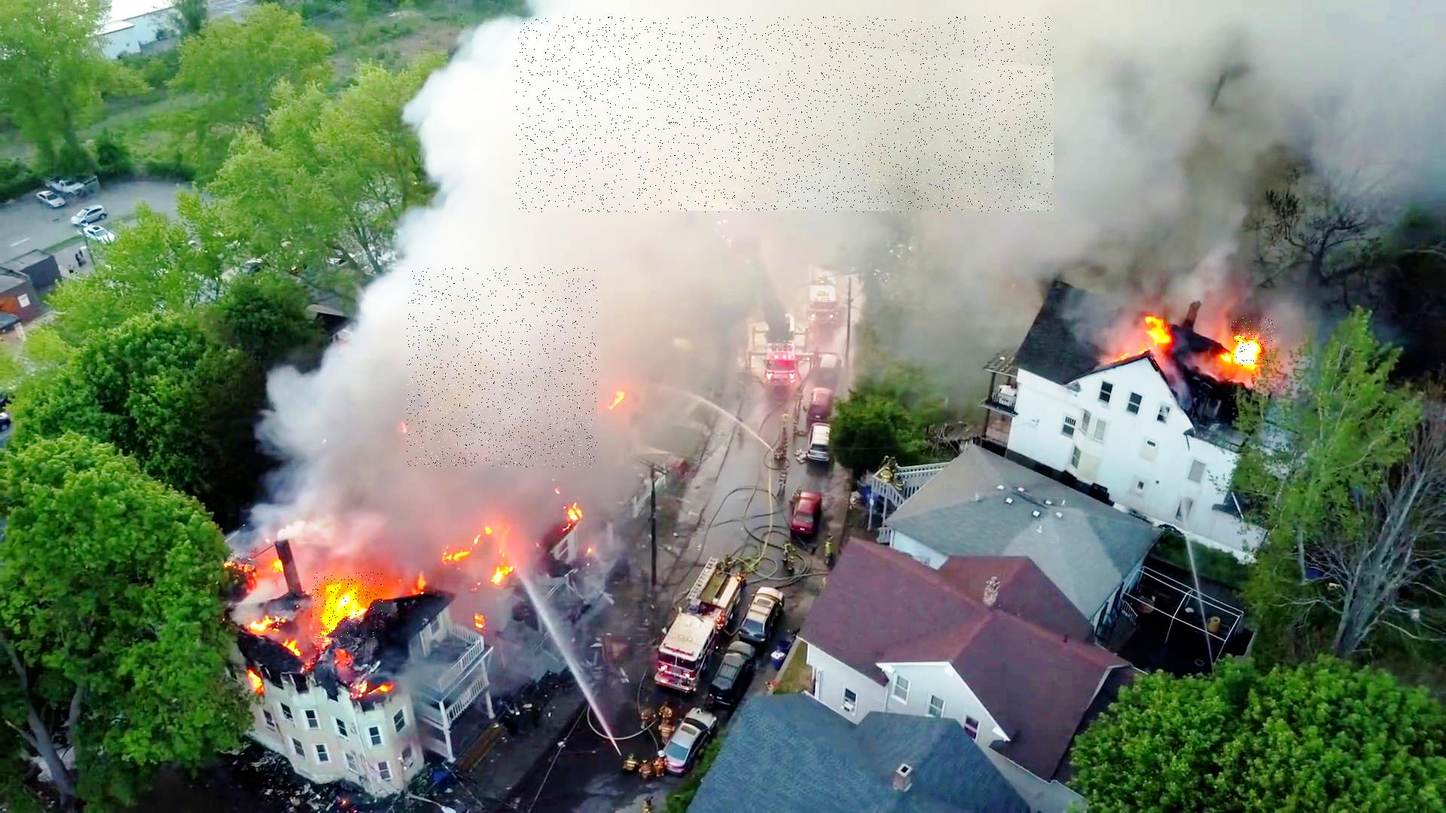fire: (313, 573, 383, 640), (1231, 318, 1275, 366)
smoke: (516, 17, 1054, 213), (407, 268, 597, 468)
